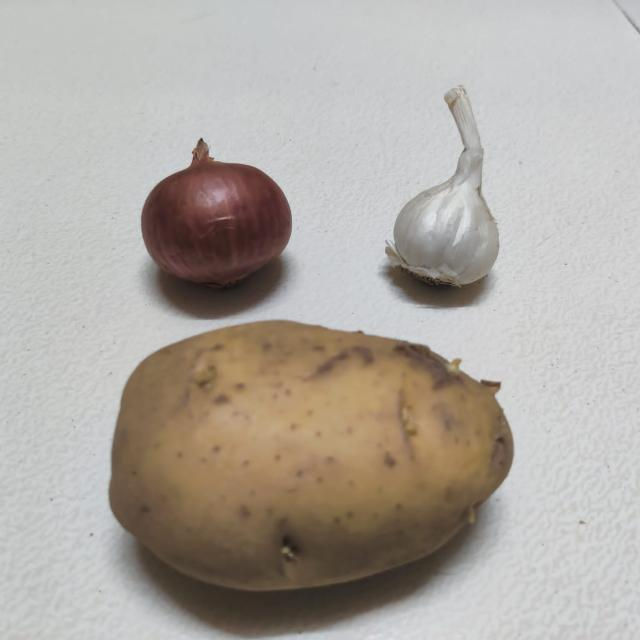Organik: (100, 314, 525, 602), (108, 133, 336, 303), (380, 72, 530, 288)
